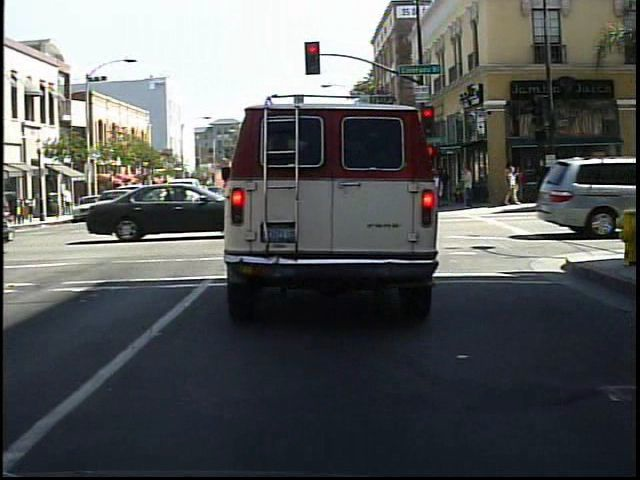person: (534, 158, 555, 212), (511, 165, 531, 210)
